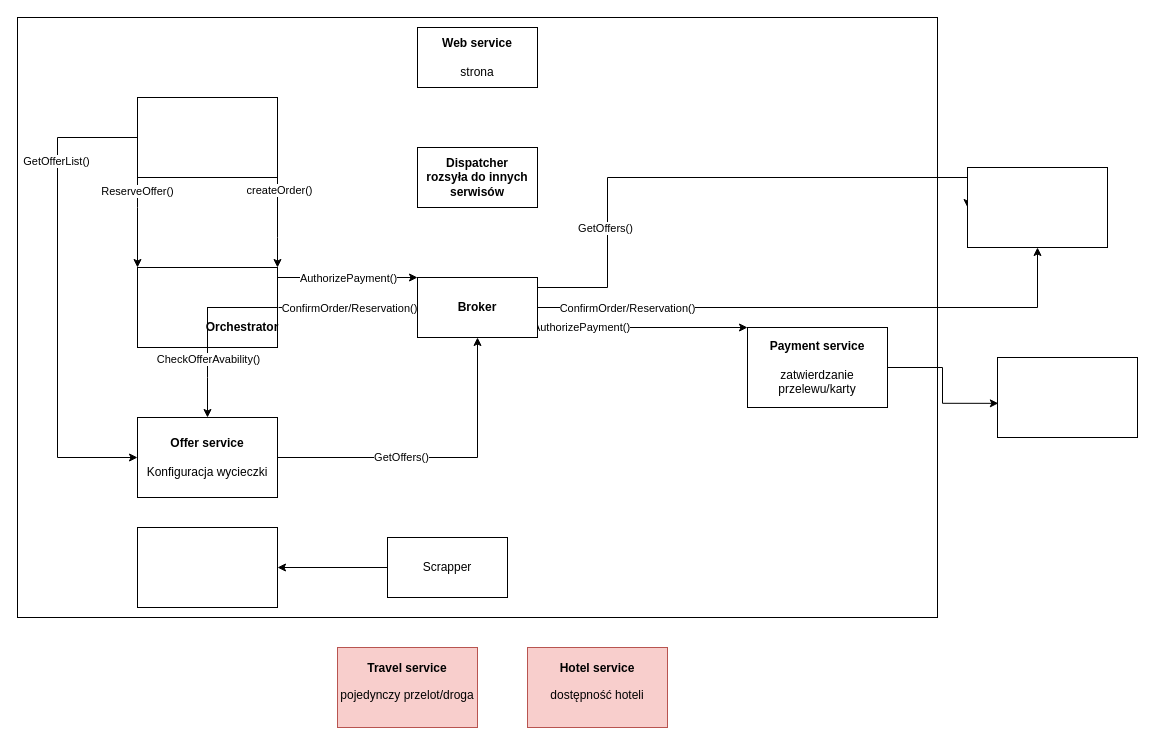
Some shapes in this 1155 by 745 pixel diagram are drawn without their labels. The shapes that lost their labels are listed below. From the top down, each one's box as (x1, y1, x2, y2) in pixels, then its label:
(136, 96, 278, 178): Customer service Zarządzanie danymi klienta/historia
(966, 166, 1108, 248): TourOperator service zewnętrzny dostawca
(136, 266, 278, 348): Order service Kupno/rezerwacja oferty
(996, 356, 1138, 438): bank service
(136, 526, 278, 608): Trip service wyczeczka bez szczegółowej konfiguracji
